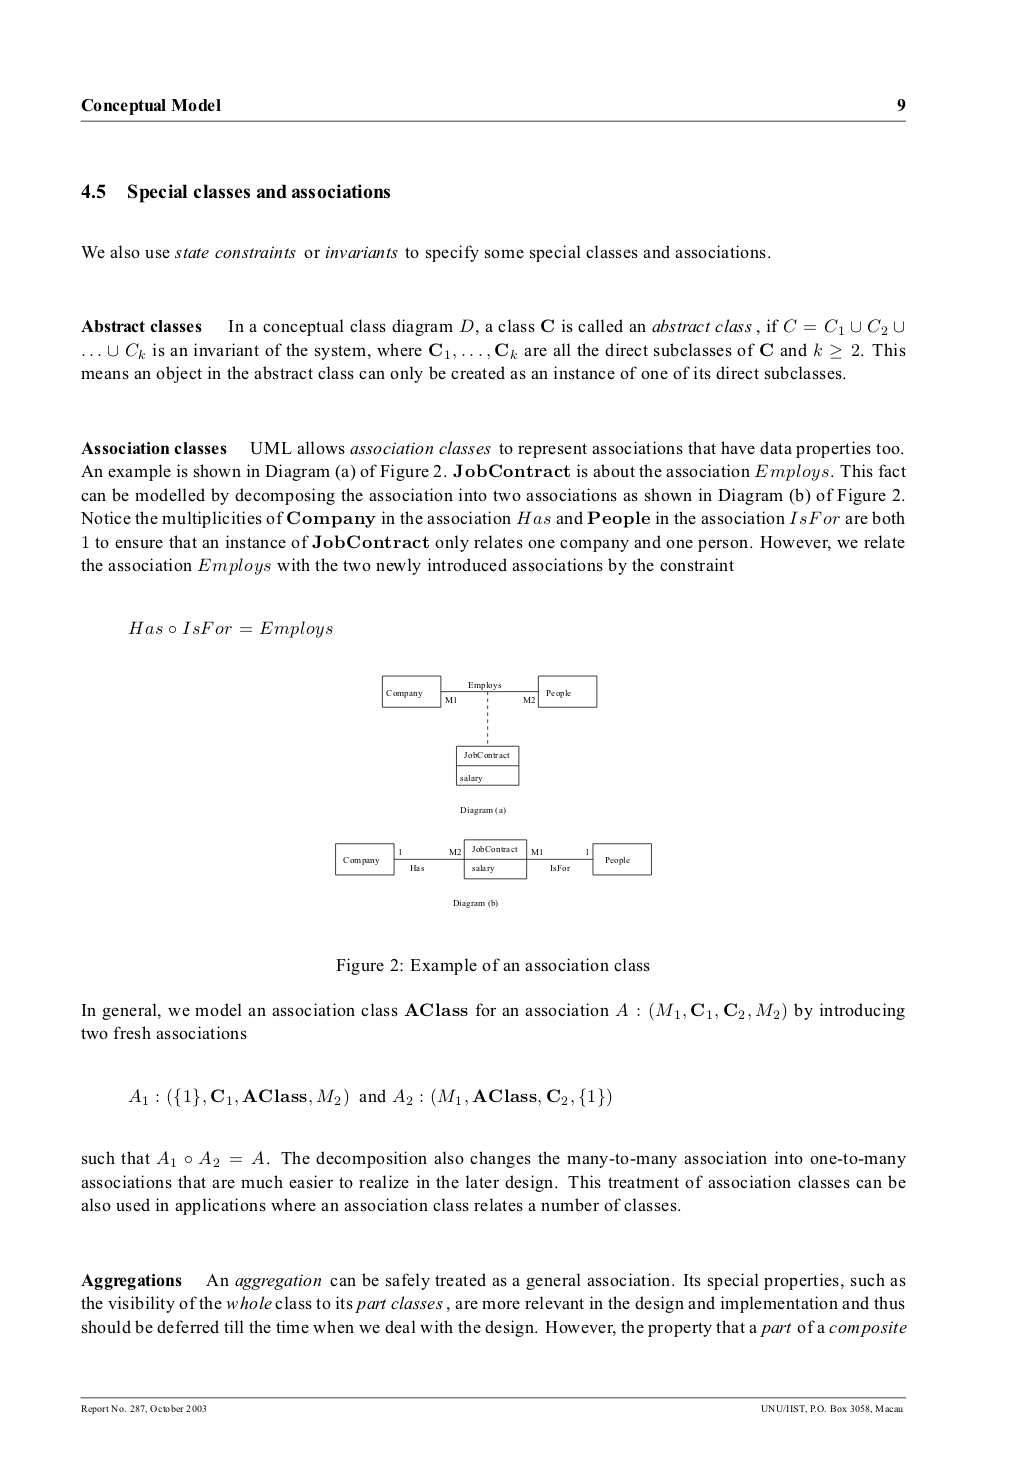figure: (335, 675, 651, 899)
formula: (128, 1088, 611, 1107)
